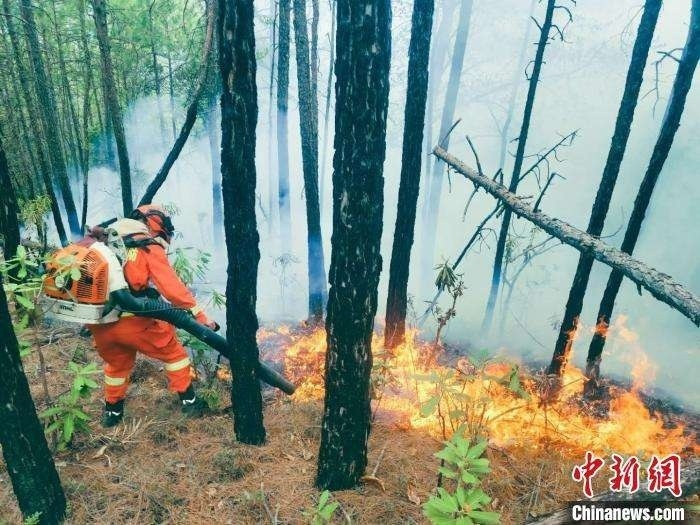fire: (374, 299, 696, 467), (258, 319, 329, 402)
